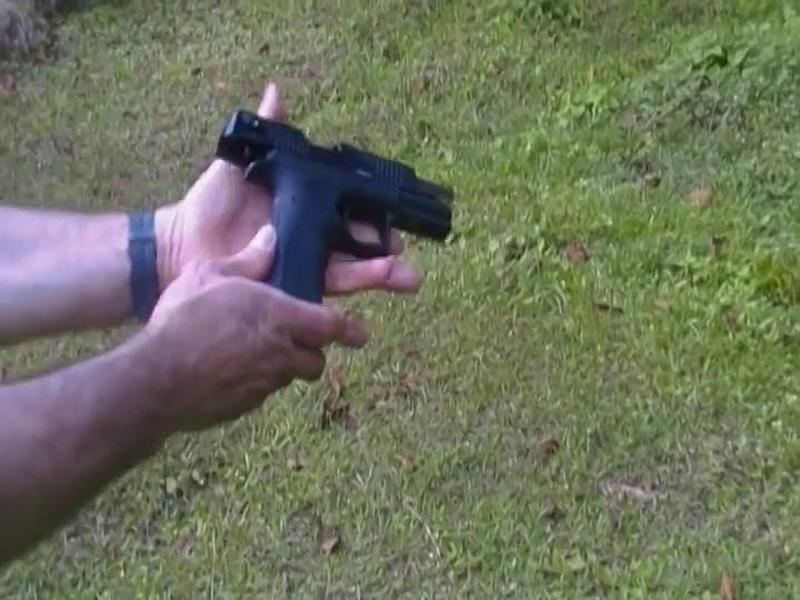Pistola: (183, 82, 480, 349)
